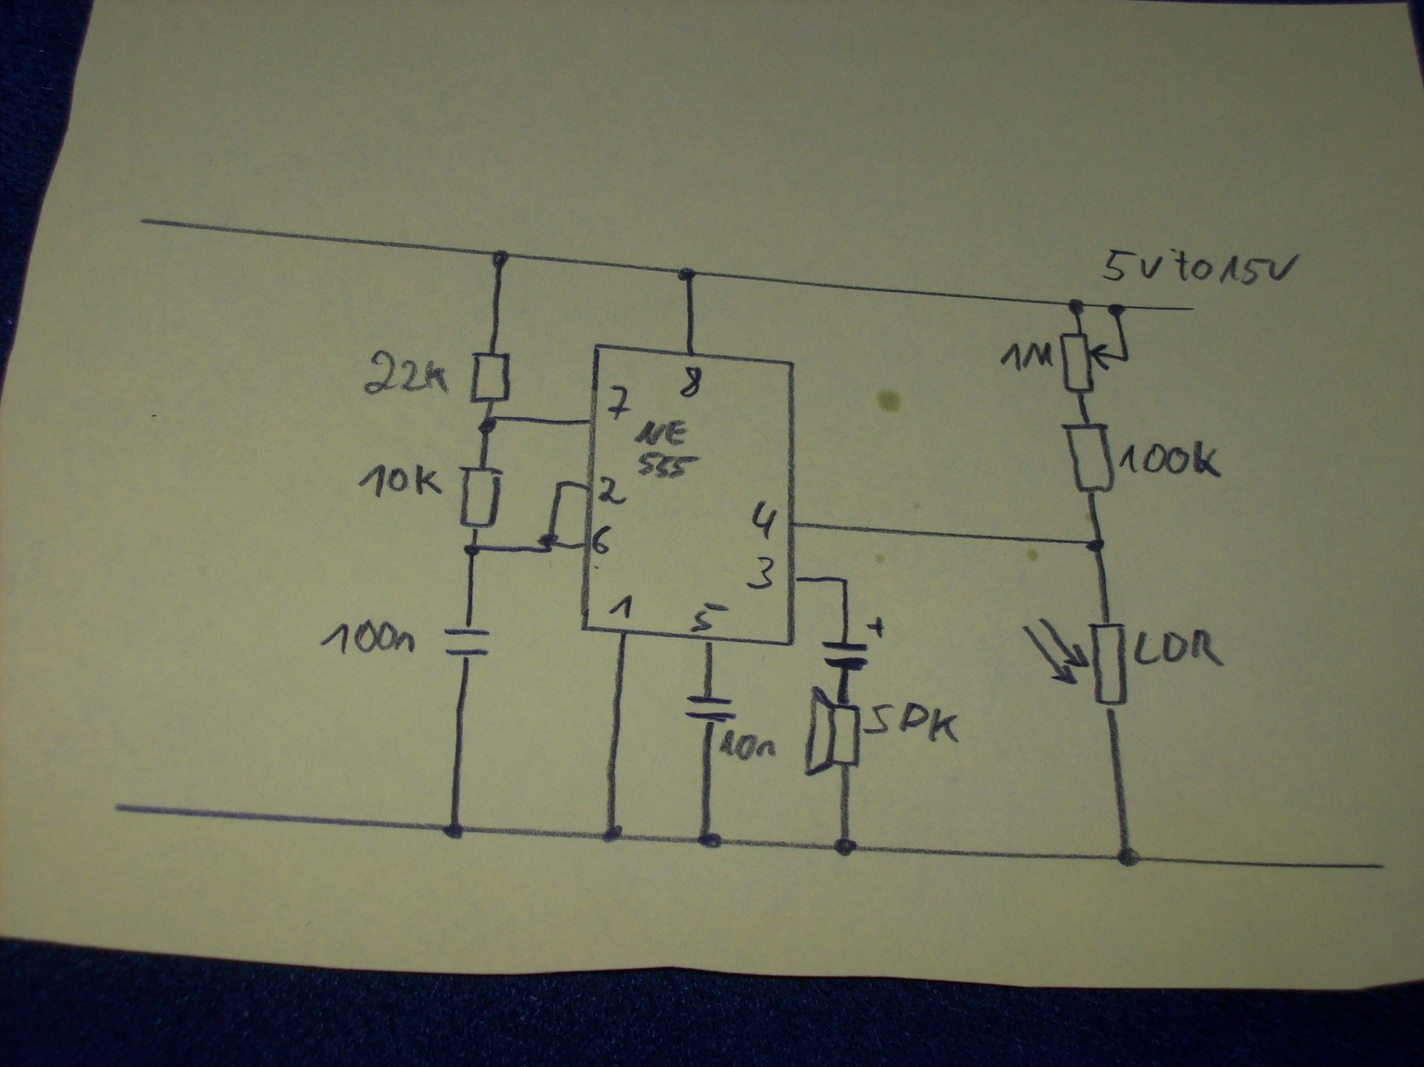capacitor.polarized: (819, 615, 887, 672)
capacitor.unpolarized: (441, 622, 493, 662), (683, 693, 738, 727)
integrated_cricuit.ne555: (578, 341, 800, 649)
junction: (1115, 845, 1142, 869), (831, 836, 859, 859), (477, 412, 501, 437), (536, 532, 561, 555), (695, 831, 723, 851), (601, 824, 625, 845), (490, 248, 512, 270), (443, 822, 467, 841), (1085, 535, 1106, 555), (674, 265, 698, 282), (1065, 297, 1087, 316), (463, 541, 483, 559), (1106, 301, 1127, 318), (553, 477, 567, 491), (839, 573, 851, 586)
resistor: (1060, 421, 1117, 495), (456, 463, 504, 532), (468, 349, 512, 405)
resistor.adjustable: (1058, 330, 1130, 396)
resistor.photo: (1020, 616, 1130, 712)
speaker: (801, 683, 863, 780)
terminal: (108, 797, 137, 819), (132, 211, 158, 232), (1372, 859, 1390, 873), (1186, 303, 1199, 315)
text: (1101, 245, 1303, 288), (632, 417, 702, 481), (862, 700, 961, 745), (361, 347, 453, 396), (1117, 439, 1223, 480), (1130, 627, 1226, 668), (319, 618, 417, 656), (357, 462, 445, 499), (717, 729, 779, 763), (999, 341, 1057, 373), (689, 601, 730, 633), (750, 499, 779, 541), (745, 554, 776, 591), (597, 474, 629, 505), (606, 384, 632, 421), (678, 365, 702, 399), (608, 593, 634, 621), (592, 525, 613, 556)
